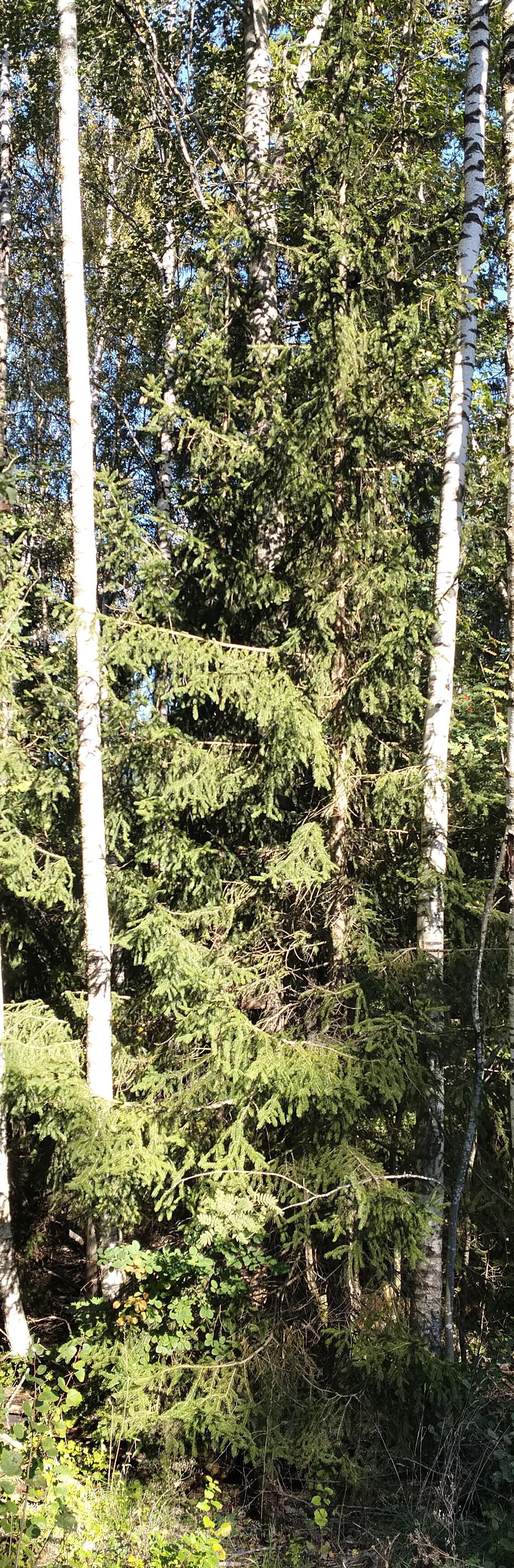Spruce: (116, 396, 431, 1461)
